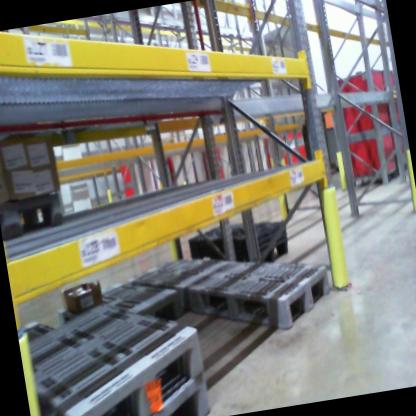pallet: (16, 268, 223, 416), (186, 241, 350, 363), (119, 242, 230, 311), (105, 266, 182, 325), (0, 184, 71, 242), (124, 375, 219, 416)
